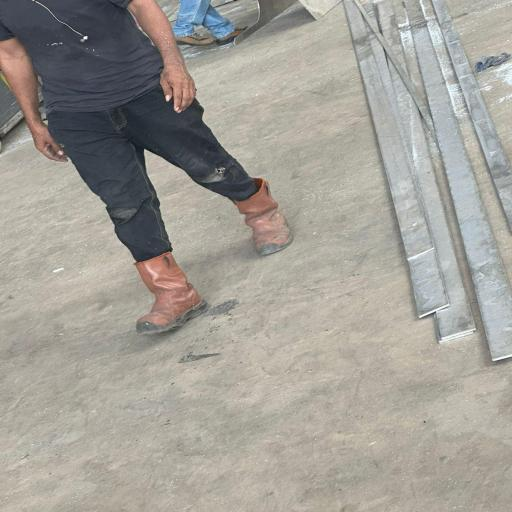safety_shoe: (102, 250, 214, 340), (225, 186, 299, 262)
